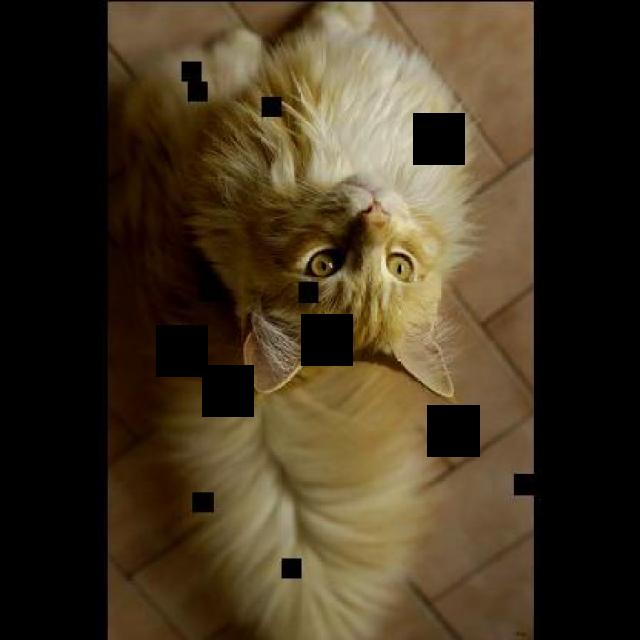unauthorized: (106, 0, 492, 638)
